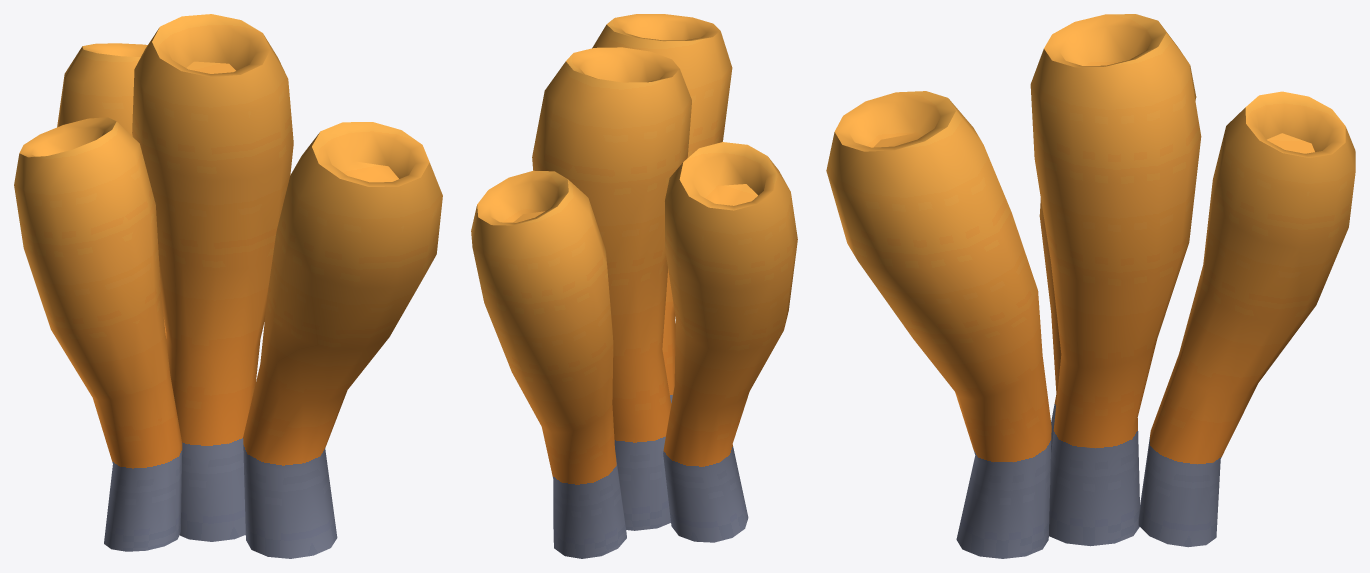
File: D_CoralReef.038.glb
3 renders of one model, left to right at view 1: azimuth 30°, elevation 25°; view 2: azimuth 150°, elevation 25°; view 3: azimuth 270°, elevation 25°, orthographic. The views are drawn at different scales.
Visible parts, largest first — view 1: D_CoralReef.038; view 2: D_CoralReef.038; view 3: D_CoralReef.038.
Boxes of the visible parts, x1=… form: D_CoralReef.038: x1=14, y1=14, x2=442, y2=558; D_CoralReef.038: x1=471, y1=14, x2=797, y2=558; D_CoralReef.038: x1=826, y1=14, x2=1355, y2=558.
Bounding box in the file's own units: 0.144 × 0.2148 × 0.2055.
1 material, 1 textured.
